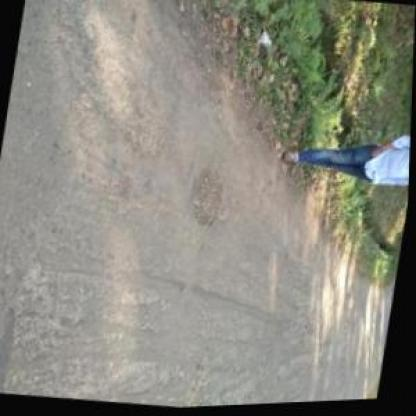pothole: (187, 168, 229, 233)
